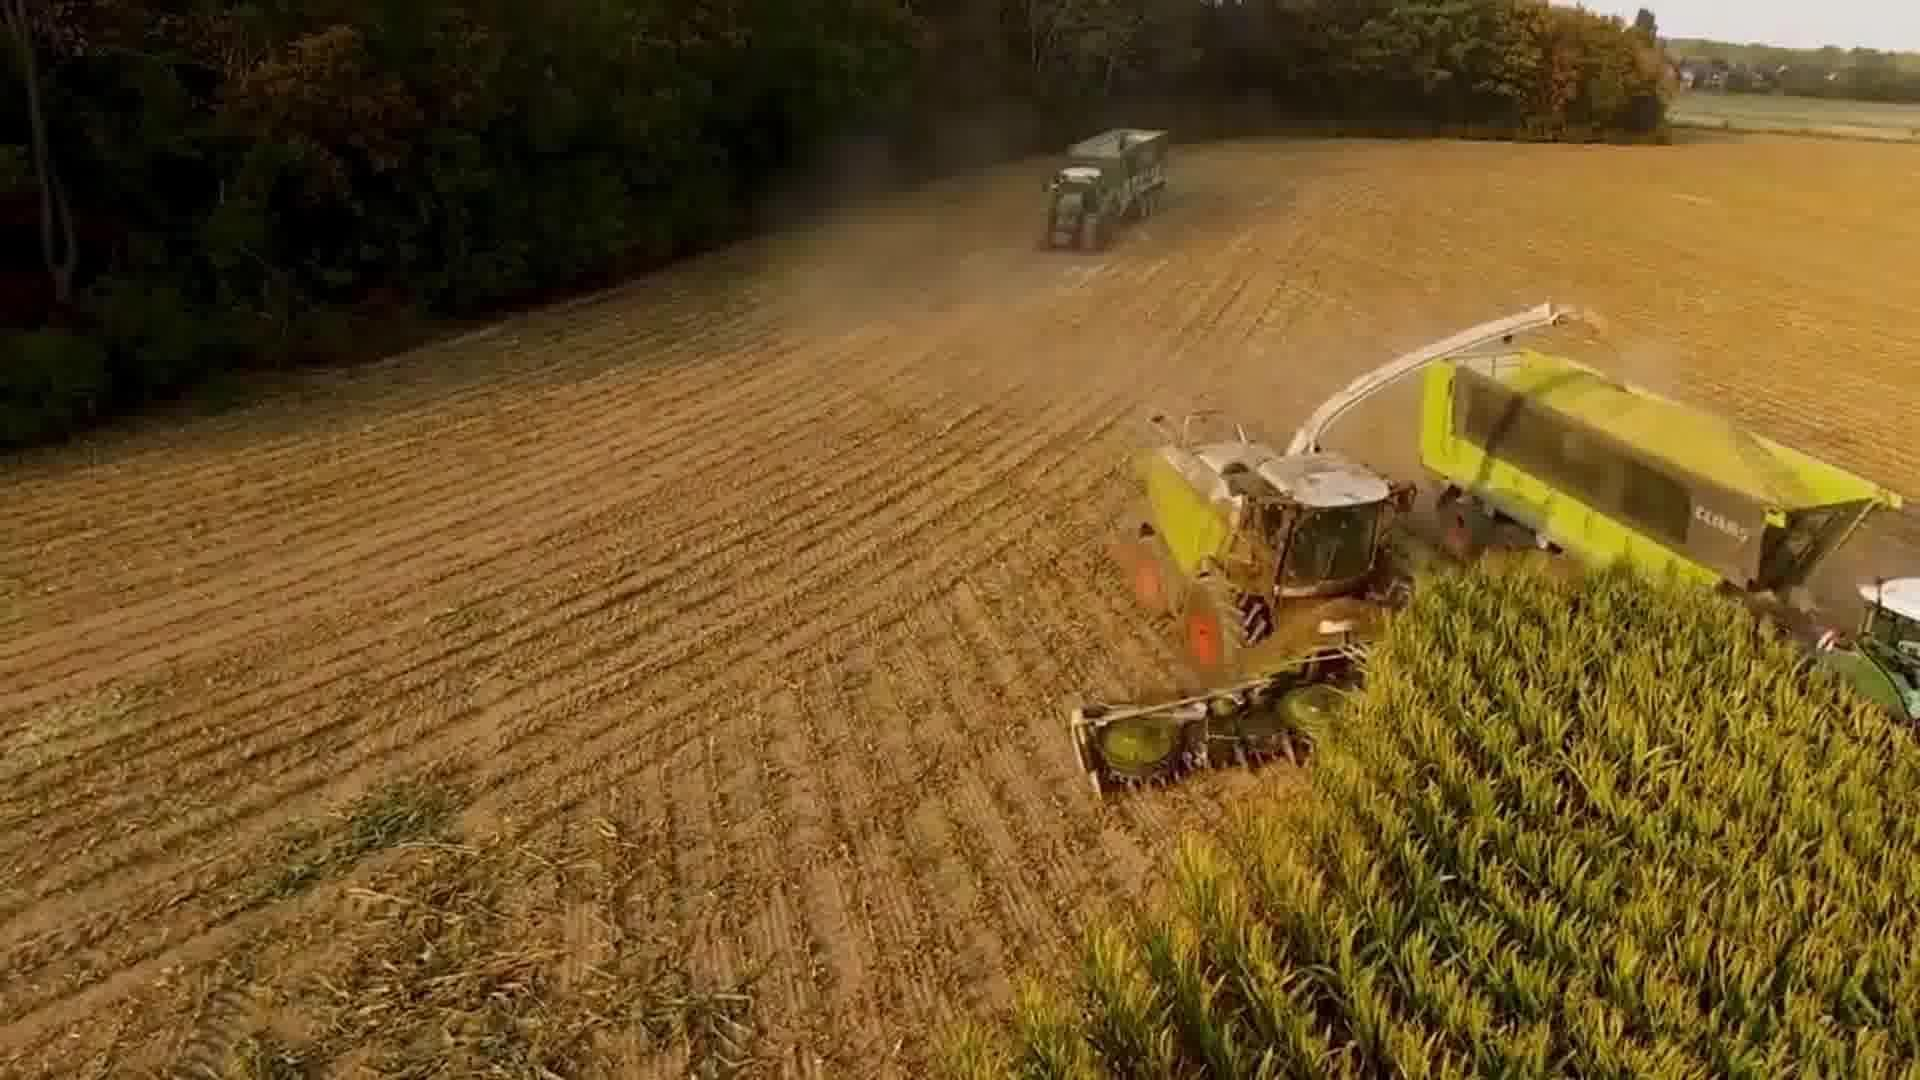combine harvester: (1063, 295, 1614, 811)
tractor: (1808, 562, 1920, 785), (1033, 164, 1117, 260)
trailer: (1406, 318, 1902, 655), (1063, 120, 1176, 228)
